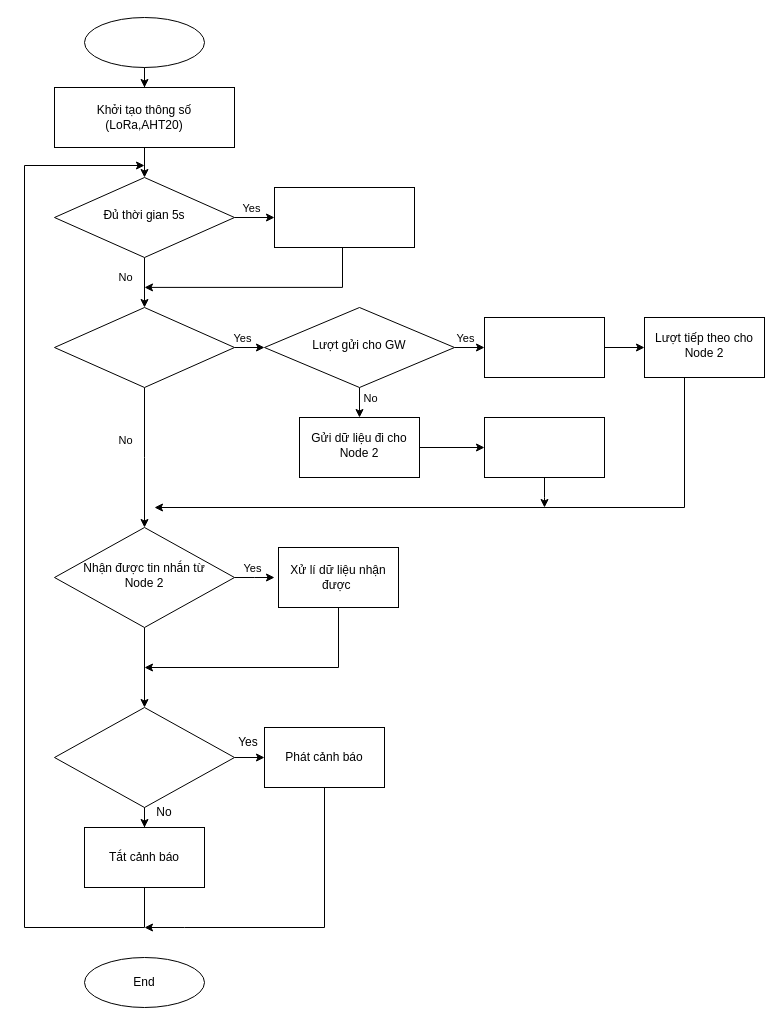
This 782x1025 diagram has some shape labels left out. Each missing label, with the box of its shape:
Gửi dữ liệu đi cho GW: (484, 316, 604, 378)
Kiểm tra các giá trị cảm biến cao: (54, 706, 234, 808)
Lượt tiếp theo cho GW: (484, 416, 604, 478)
Start: (84, 16, 204, 68)
Đọc cảm biến nhiệt độ - độ ẩm: (274, 186, 414, 248)
Đủ thời gian 0.8s: (54, 306, 234, 388)
